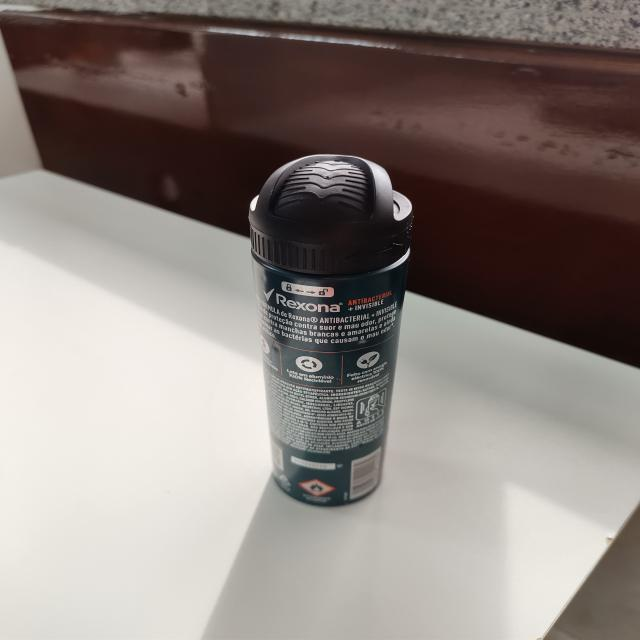Desodorante Azul: (249, 144, 429, 506)
